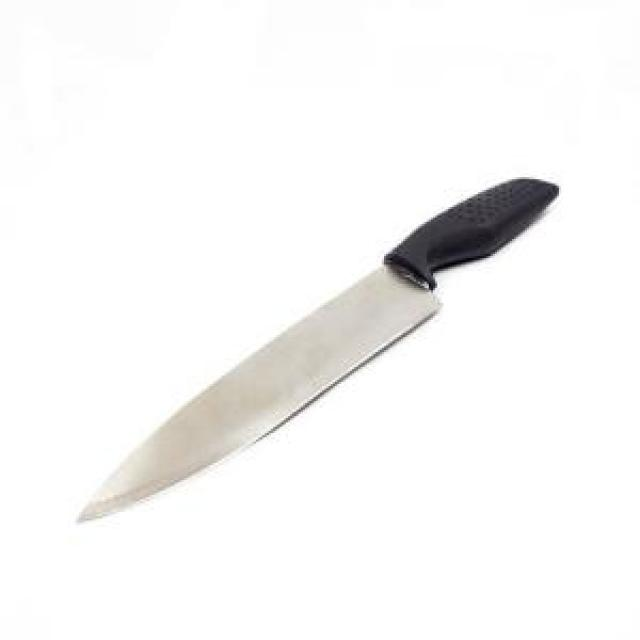knife: (75, 175, 582, 542)
